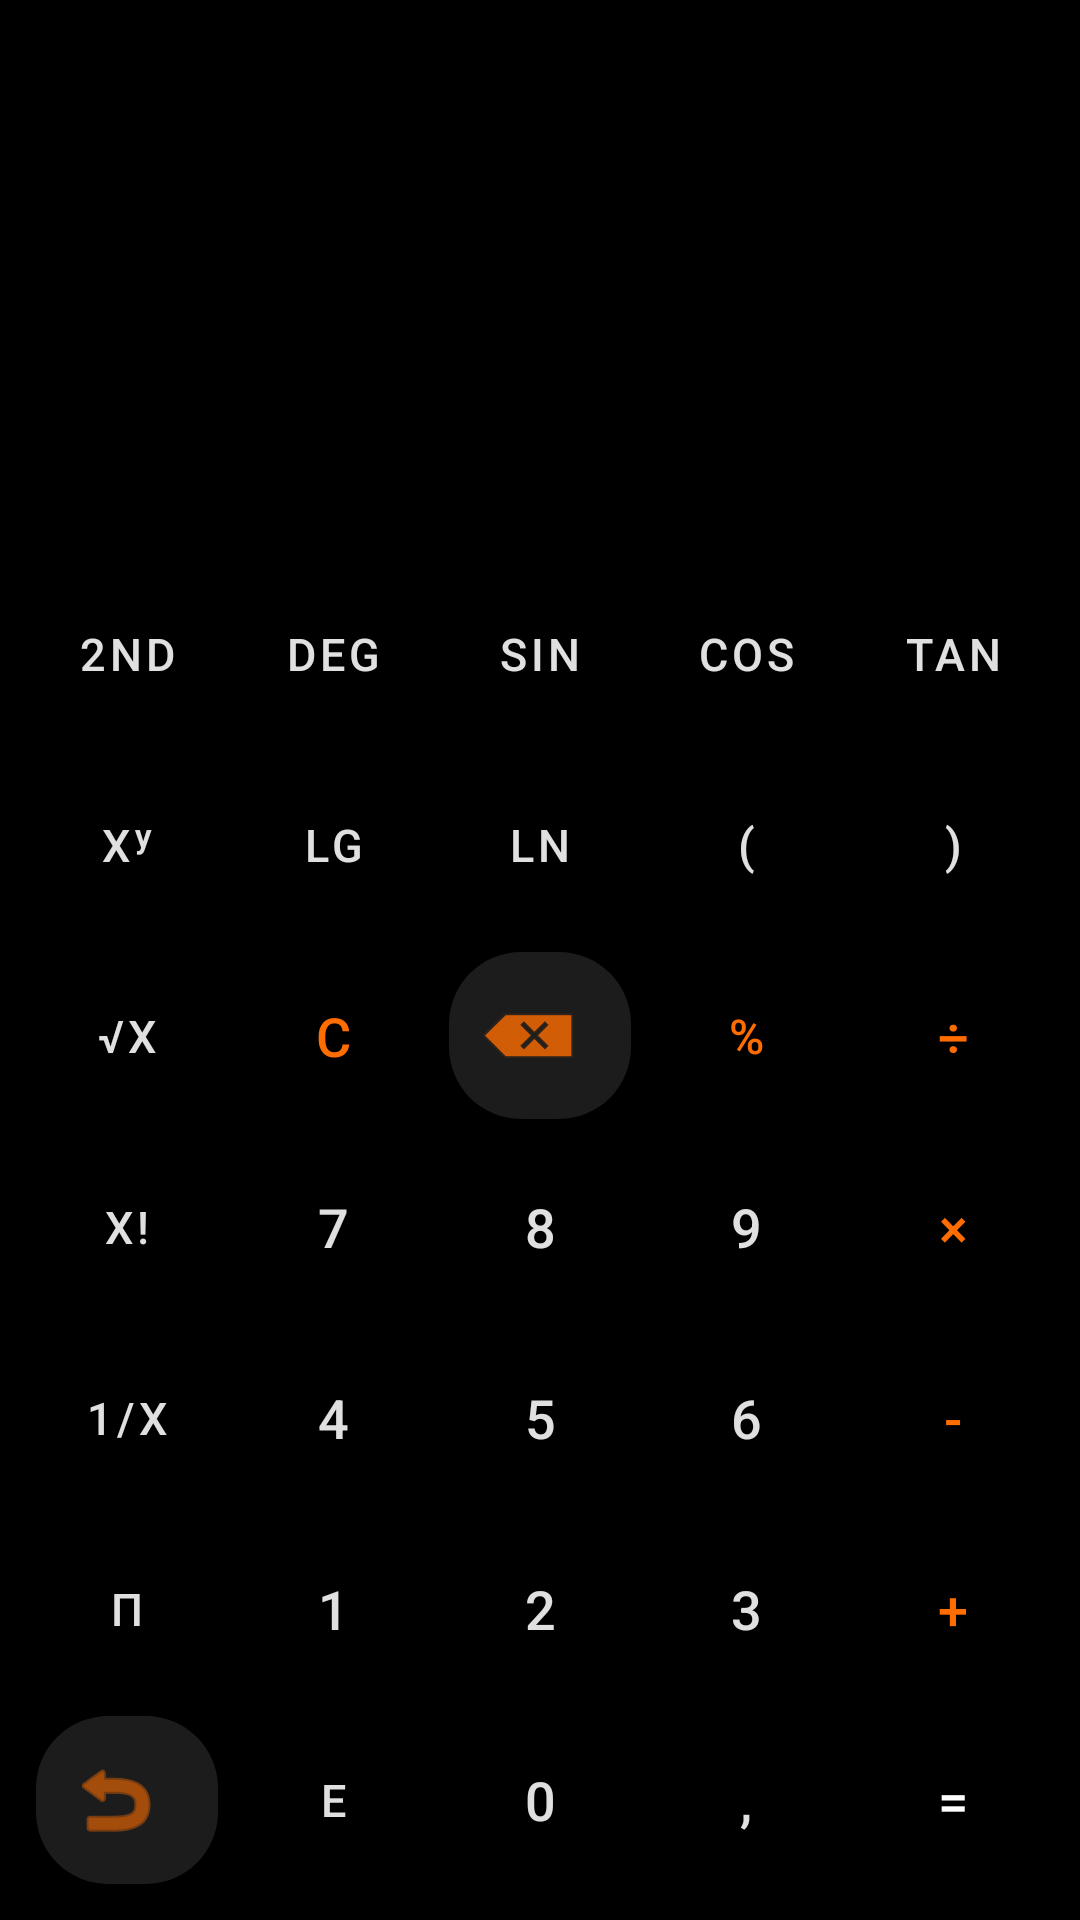

Icon bounding boxes for this 1080 × 1920 phone screenshot, format (x1, y1, x2, y2):
Стереть символ: (449, 952, 631, 1119)
